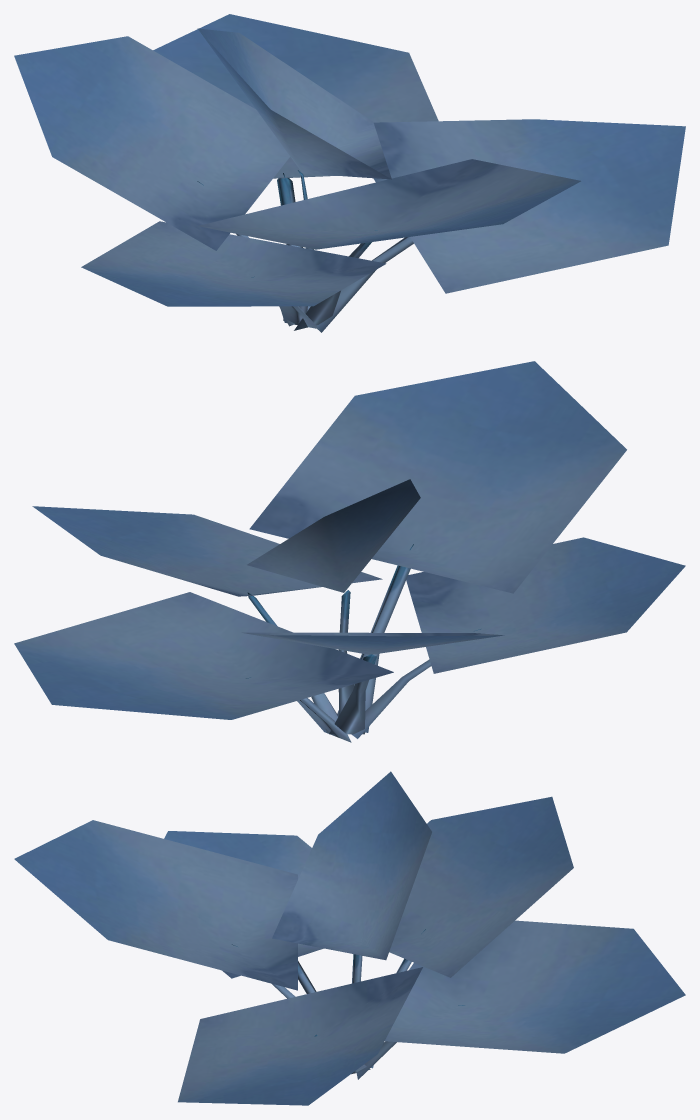
File: Beidaying_zhiwu08.FBX
3 views of the same model, one above another, from view 1: azimuth 30°, elevation 25°; view 2: azimuth 150°, elevation 25°; view 3: azimuth 270°, elevation 25° (orthographic). The views are drawn at different scales.
Parts seen in each view (by area): view 1: Beidaying_zhiwu08; view 2: Beidaying_zhiwu08; view 3: Beidaying_zhiwu08.
Boxes of the visible parts, left/top/right/bottom form: Beidaying_zhiwu08: left=14, top=14, right=685, bottom=332; Beidaying_zhiwu08: left=14, top=361, right=685, bottom=742; Beidaying_zhiwu08: left=14, top=771, right=685, bottom=1105.
Bounding box in the file's own units: 31.3 × 34.36 × 14.98.
